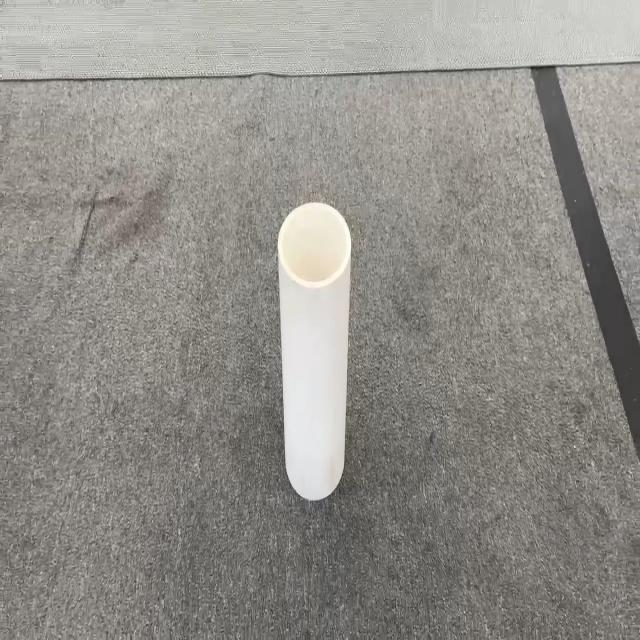coral: (276, 200, 352, 500)
